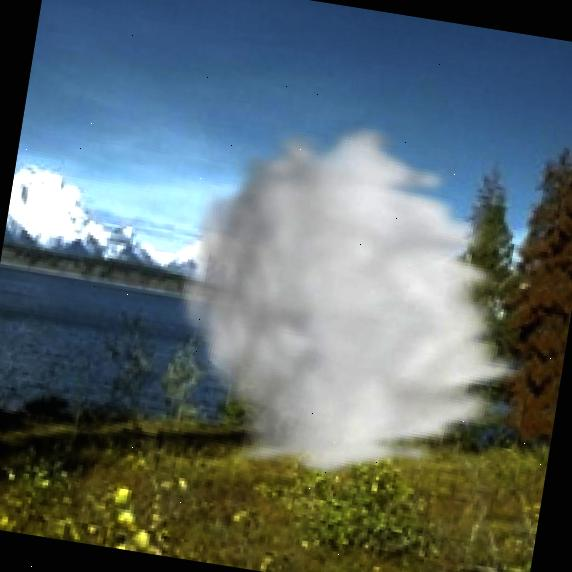smoke: (145, 94, 572, 511)
